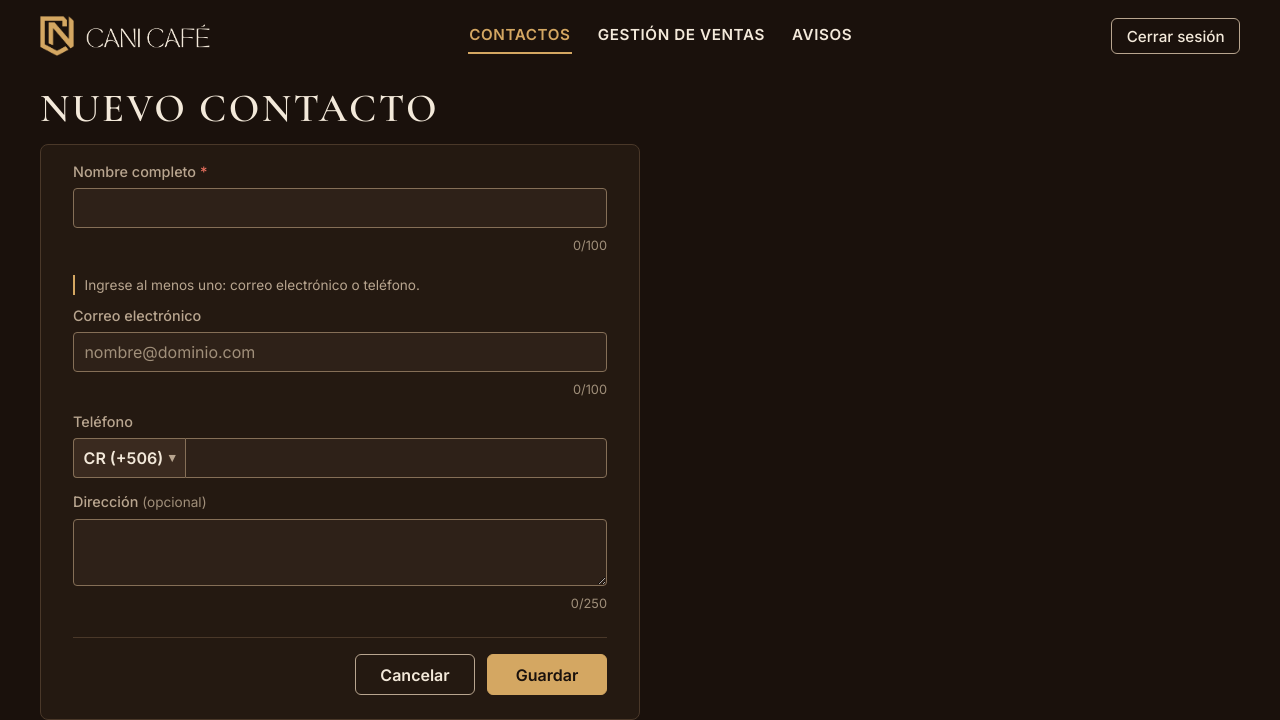
Test: HU-202 Teléfonos de Costa Rica y de otros países › el buscador encuentra "mexico"
Click the button with aria-label "País del teléfono" at (129, 458), box [73, 438, 185, 478]
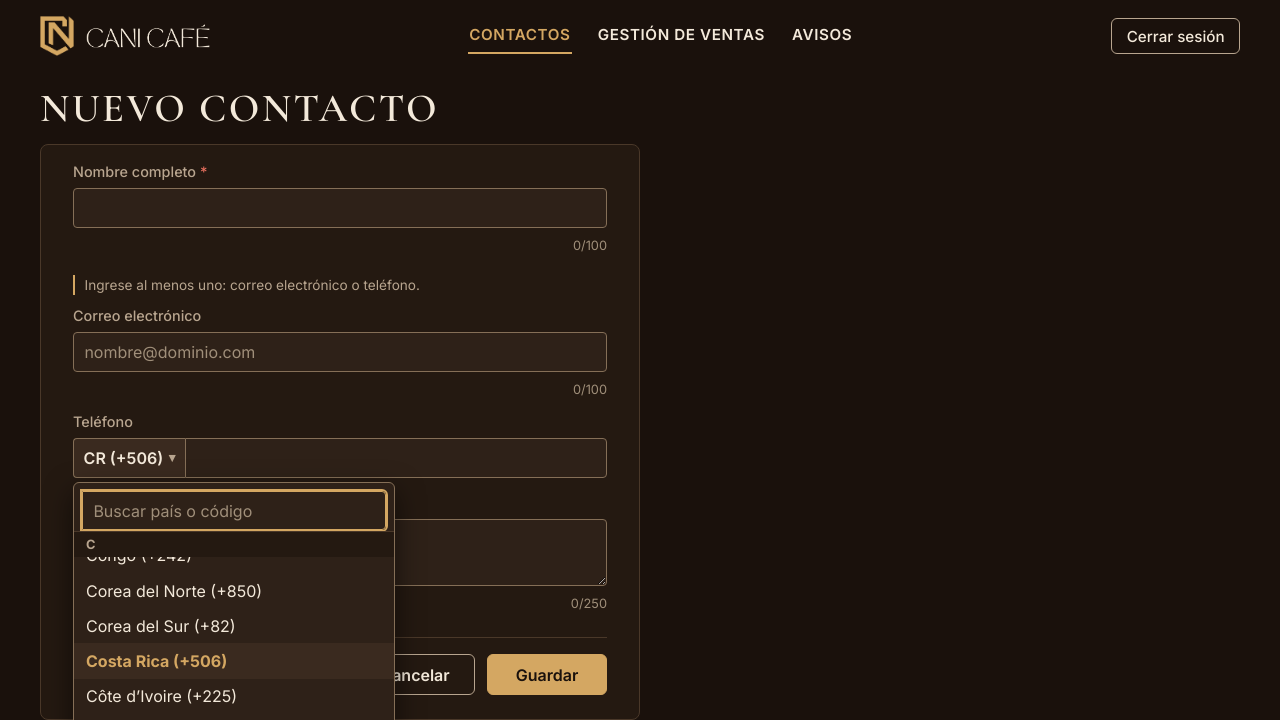
Type "mexico" into the dropdown labelled "Buscar país" at (234, 510), box [82, 491, 386, 530]
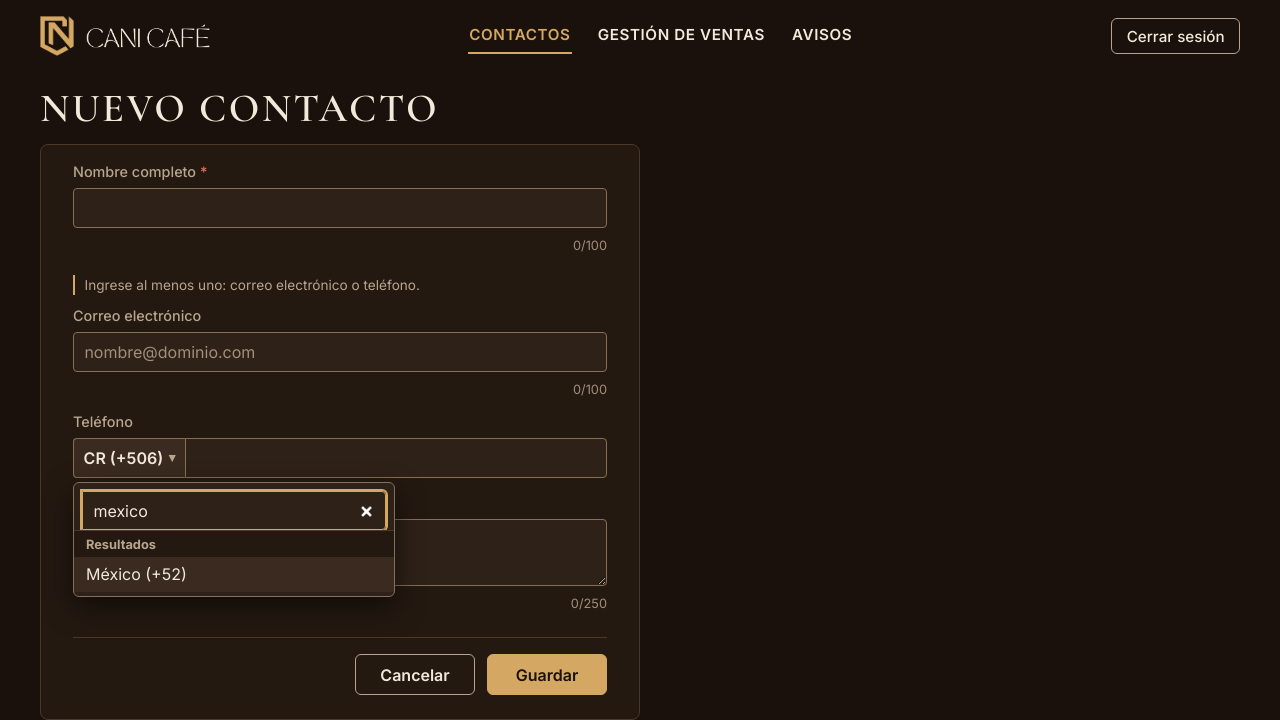
Check: the option "México (+52)" is shown, box [74, 557, 394, 592]
